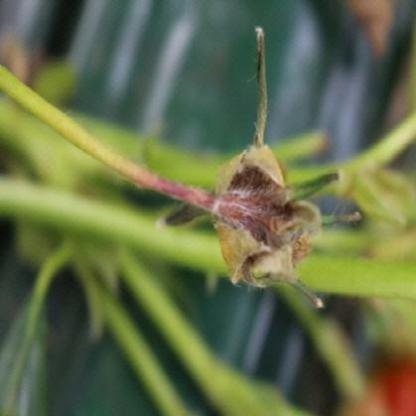Strawberry_Gray_Mold: (160, 105, 363, 308)
